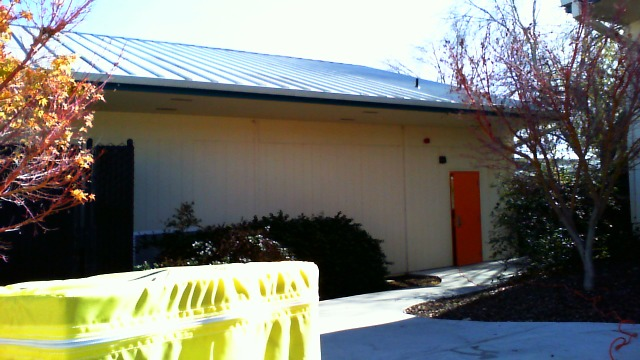cube: (12, 260, 322, 360)
